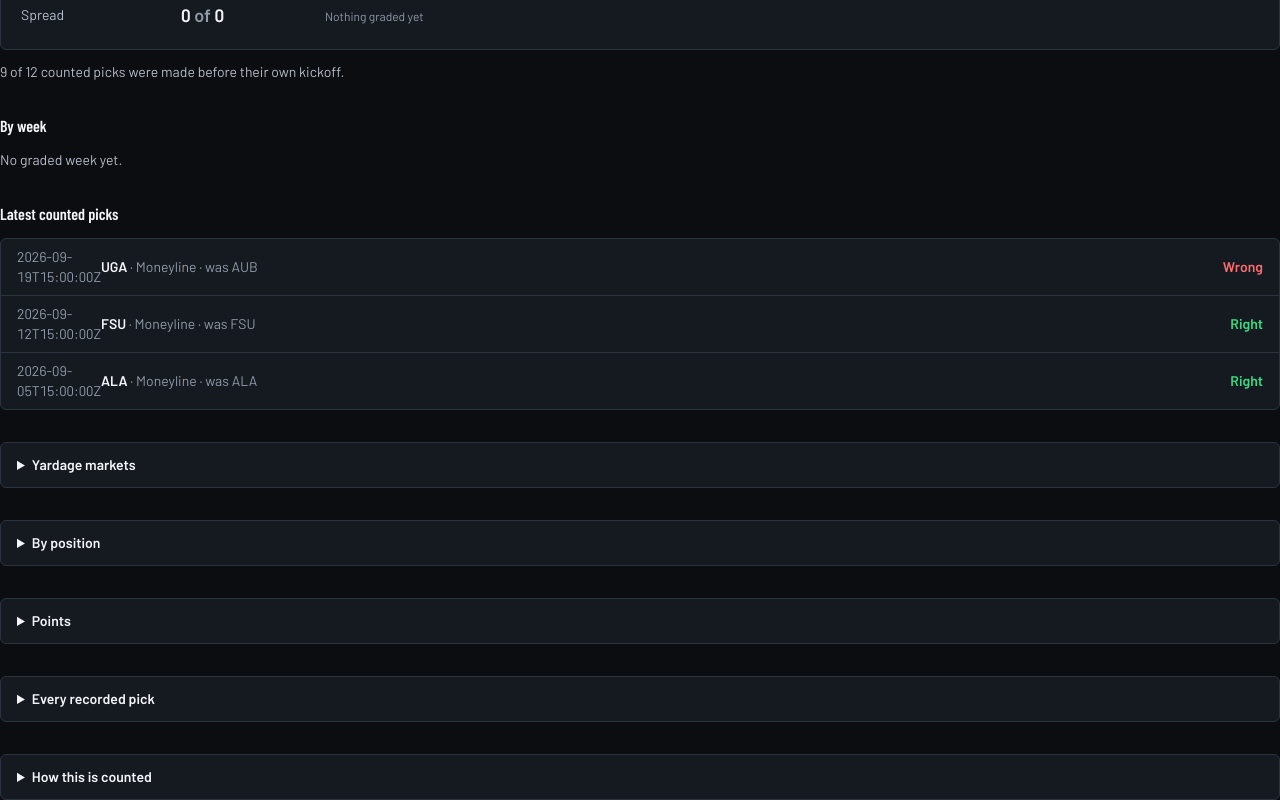
per-pick detail › marks a recorded-but-uncounted row as history, on CFB's longer list
This screenshot has width=1280, height=800.
(page scrolled)
Click the heading "Every recorded pick" at (93, 698), box top-left (32, 690), bottom-right (155, 707)
(page scrolled)
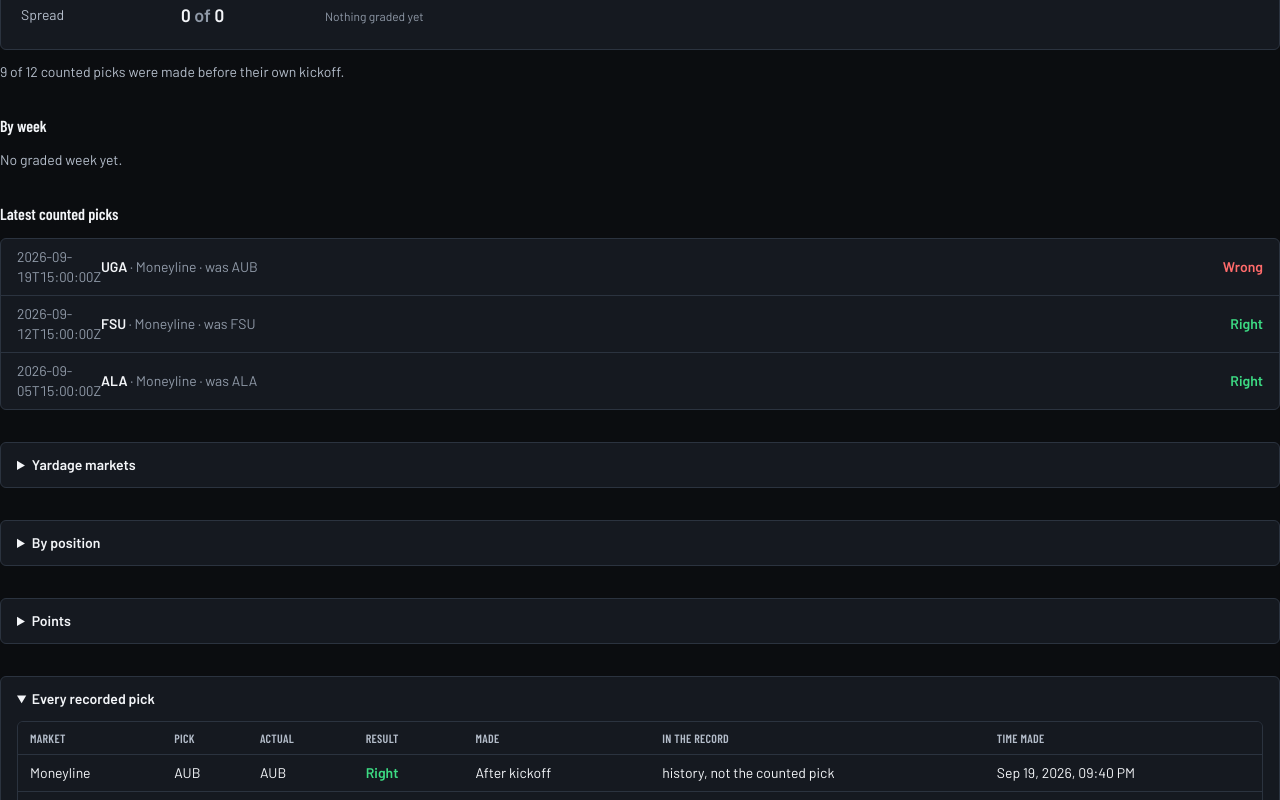
Expected: the 2nd row is shown, top-left (18, 755), bottom-right (1262, 792)
Expected: the text "After kickoff" is shown, top-left (463, 755), bottom-right (650, 792)
